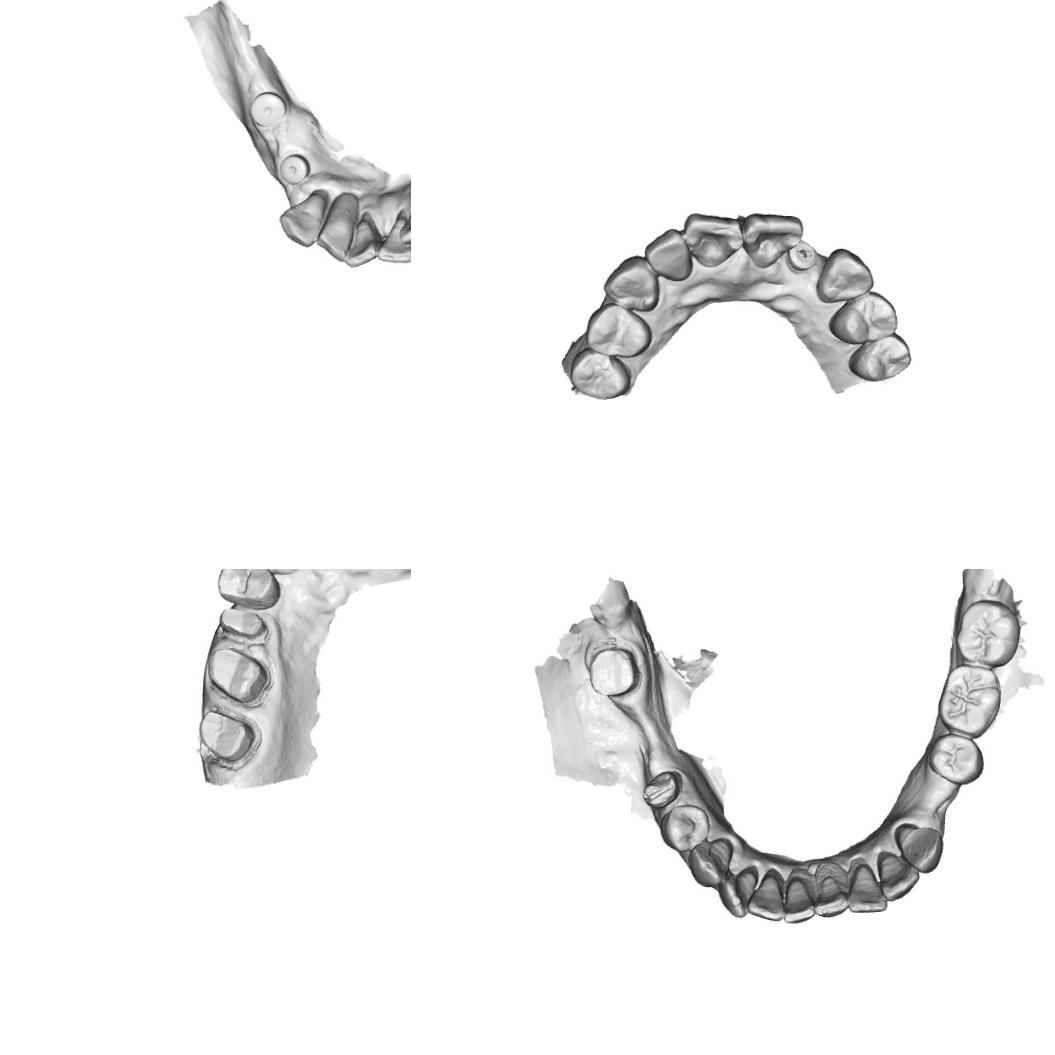canine: (814, 247, 874, 304), (603, 253, 660, 312), (276, 191, 326, 248), (893, 824, 945, 874), (686, 836, 734, 888)
crown: (193, 706, 264, 774), (202, 647, 276, 708), (588, 648, 642, 698), (216, 606, 272, 647), (642, 770, 684, 810)
implant: (248, 88, 288, 128), (276, 152, 312, 185)
implant_minus: (785, 240, 817, 274)
incisor: (741, 212, 803, 269), (683, 212, 743, 270), (643, 226, 693, 282), (716, 866, 760, 920), (314, 208, 356, 262), (846, 862, 888, 915), (876, 852, 920, 901), (746, 871, 785, 921), (342, 218, 378, 269), (375, 214, 411, 264), (814, 871, 849, 920), (782, 875, 816, 925), (398, 197, 411, 246)
molar: (936, 663, 1003, 737), (954, 596, 1022, 664)
premolar: (826, 289, 898, 346), (585, 302, 653, 358), (568, 346, 632, 400), (846, 333, 912, 383), (927, 732, 986, 787), (214, 569, 282, 610), (658, 802, 710, 854)
